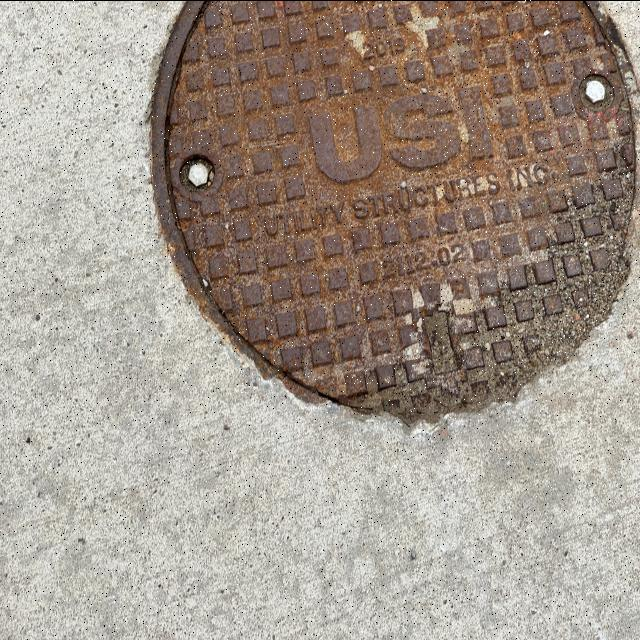Manhole: (143, 1, 616, 418)
